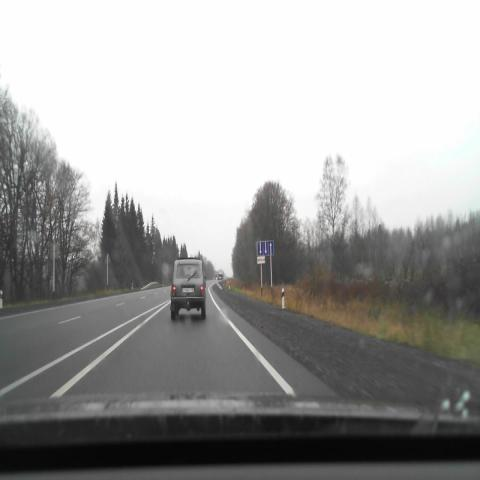5_15_7: (257, 240, 274, 255)
